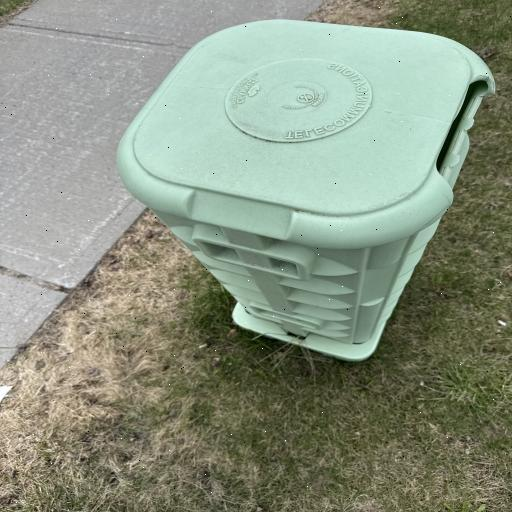Electrical Box: (118, 18, 498, 362)
